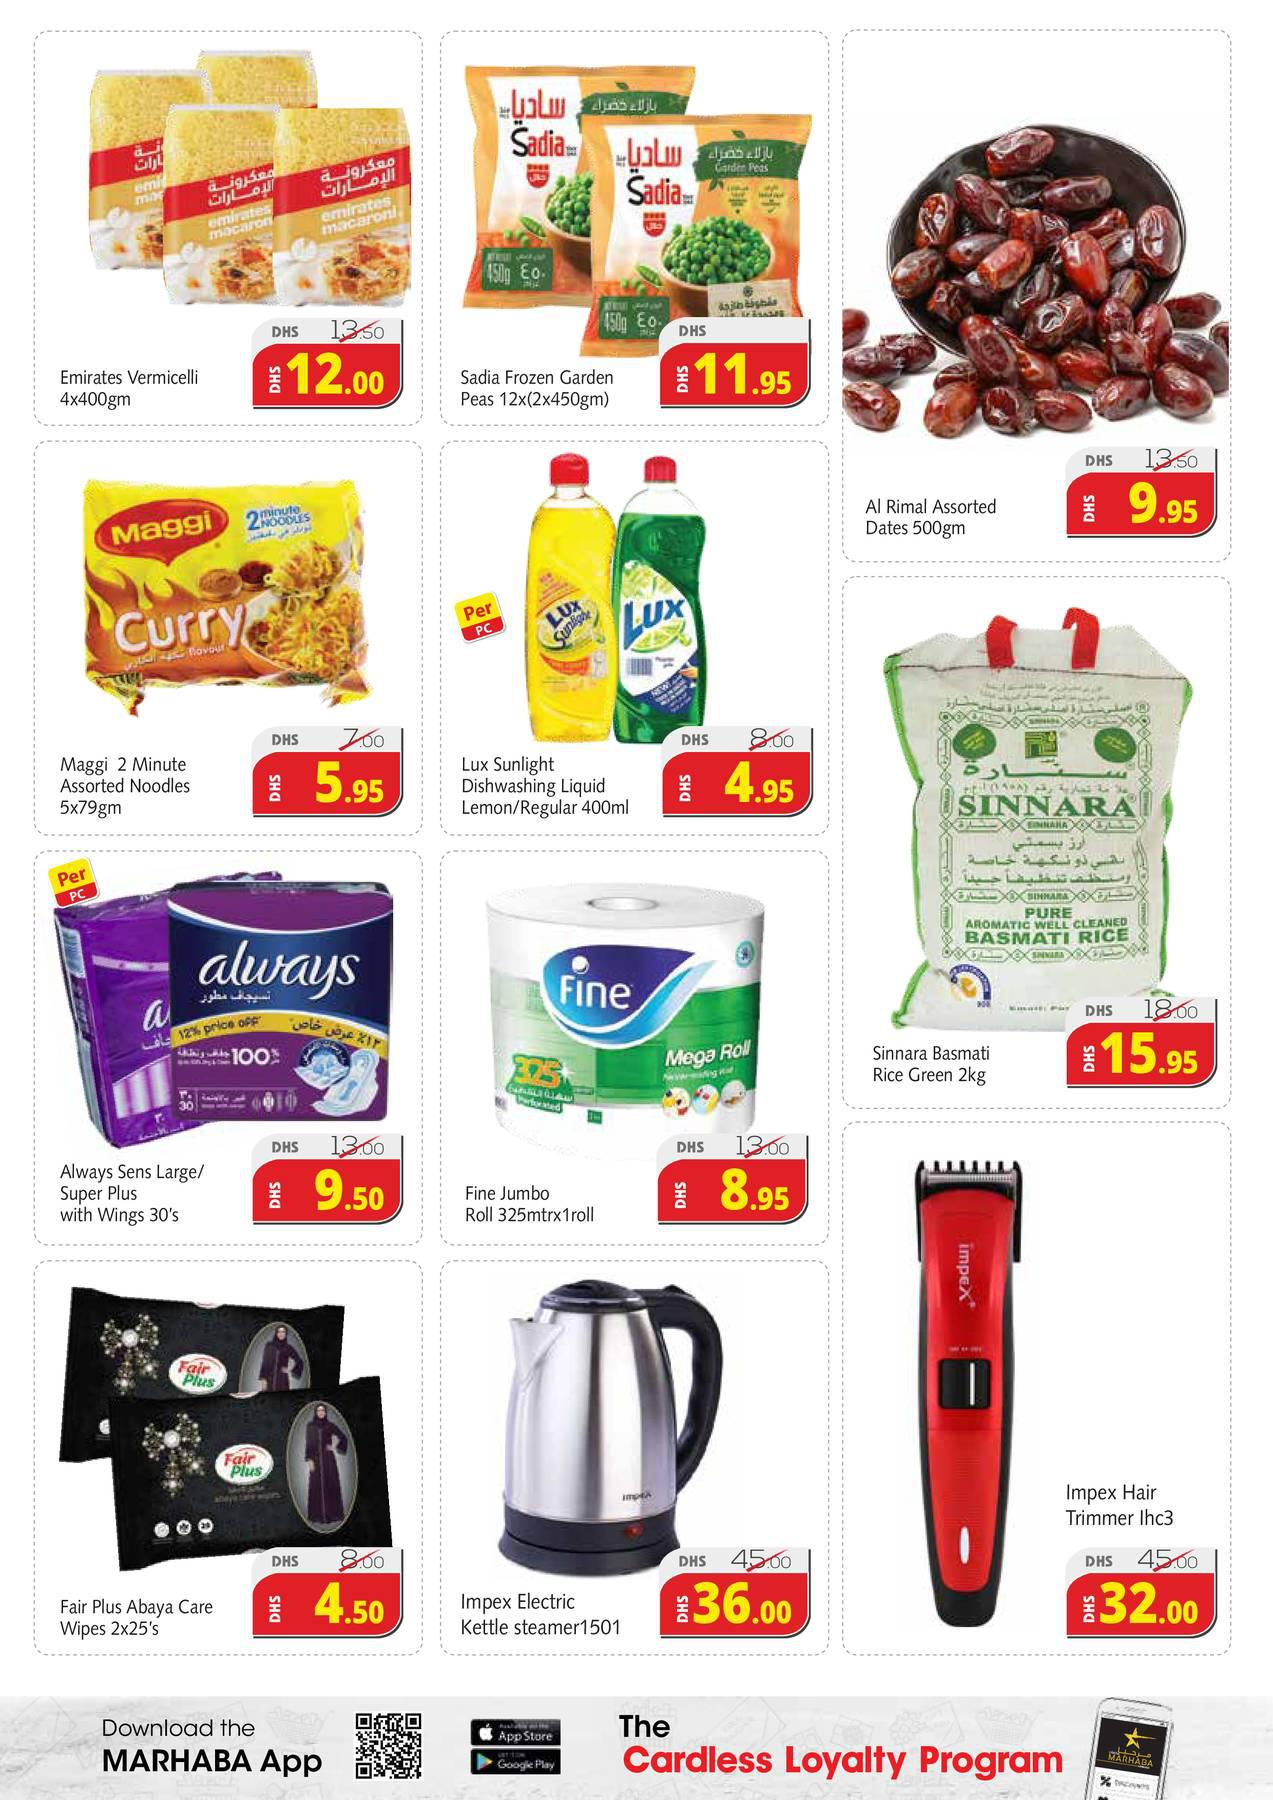text: (457, 751, 636, 826), (51, 1153, 214, 1233), (52, 744, 198, 829), (452, 1581, 630, 1647), (1053, 1469, 1194, 1536), (51, 359, 207, 419), (54, 1592, 219, 1647), (451, 364, 623, 416), (453, 1176, 603, 1233), (856, 492, 1008, 547), (864, 1037, 1002, 1098)
